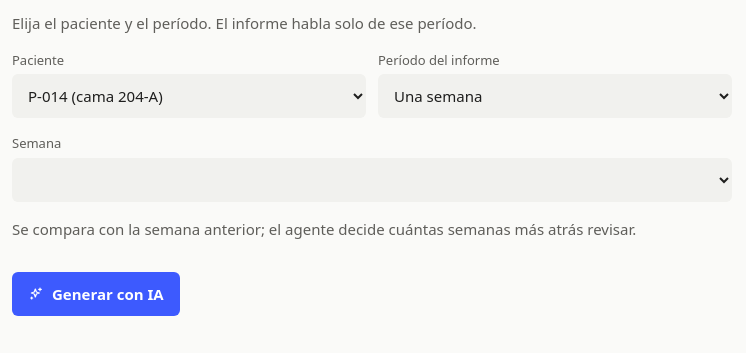
Scenario: ReportGenerateComponent (vInfGenerar del mockup) › un paciente sin semanas completas con registros dice por que no hay con que generar
What coordinates should you click on to do the following:
click the button with id "ig-btn"
I would click on:
 (96, 294)
Its box is left=12, top=272, right=180, bottom=316.
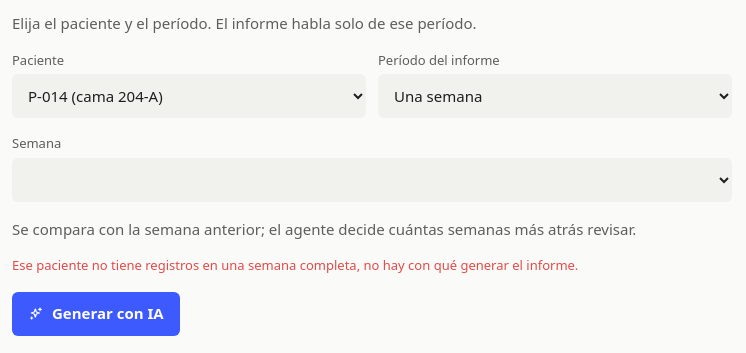
Now the text with id "ig-err" shows "no tiene registros en una semana completa", box left=12, top=256, right=578, bottom=274
